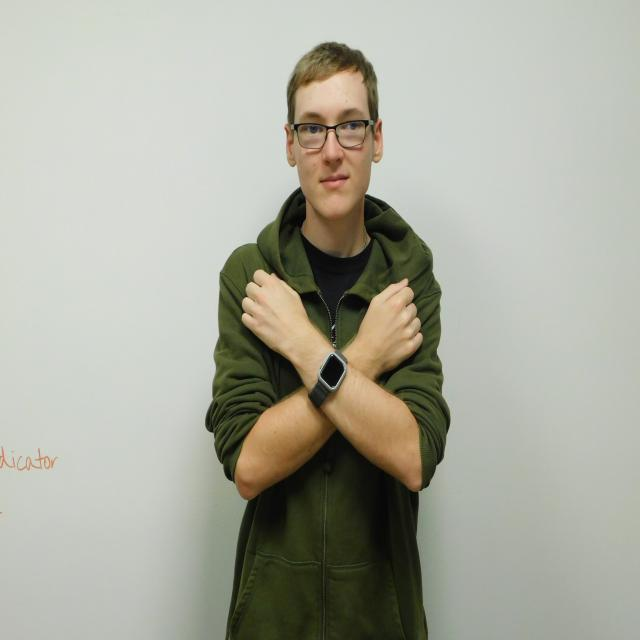love: (242, 270, 423, 370)
